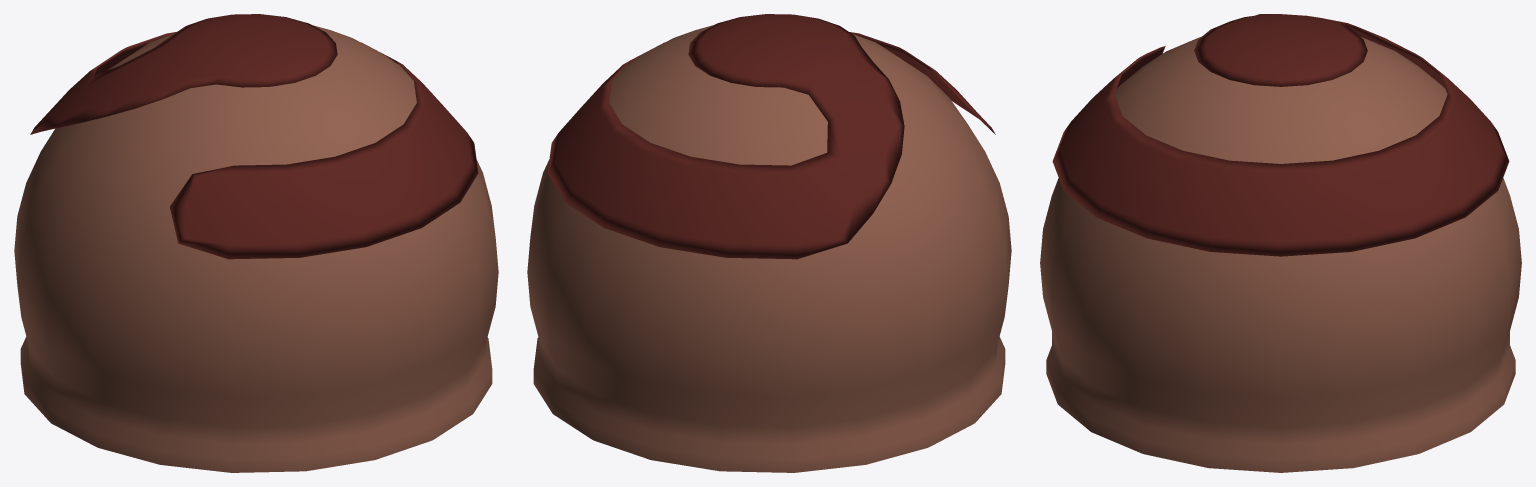
Rendered from Bonbon_Spiral.fbx.
3 renders of one model, left to right at view 1: azimuth 30°, elevation 25°; view 2: azimuth 150°, elevation 25°; view 3: azimuth 270°, elevation 25°, orthographic.
Parts seen in each view (by area): view 1: Bonbon_Spiral; view 2: Bonbon_Spiral; view 3: Bonbon_Spiral.
Boxes of the visible parts, left/top/right/bottom form: Bonbon_Spiral: left=14, top=14, right=498, bottom=472; Bonbon_Spiral: left=527, top=14, right=1011, bottom=472; Bonbon_Spiral: left=1040, top=14, right=1521, bottom=472.
Size of the model in its own units: 25.57 by 19.55 by 25.57.
